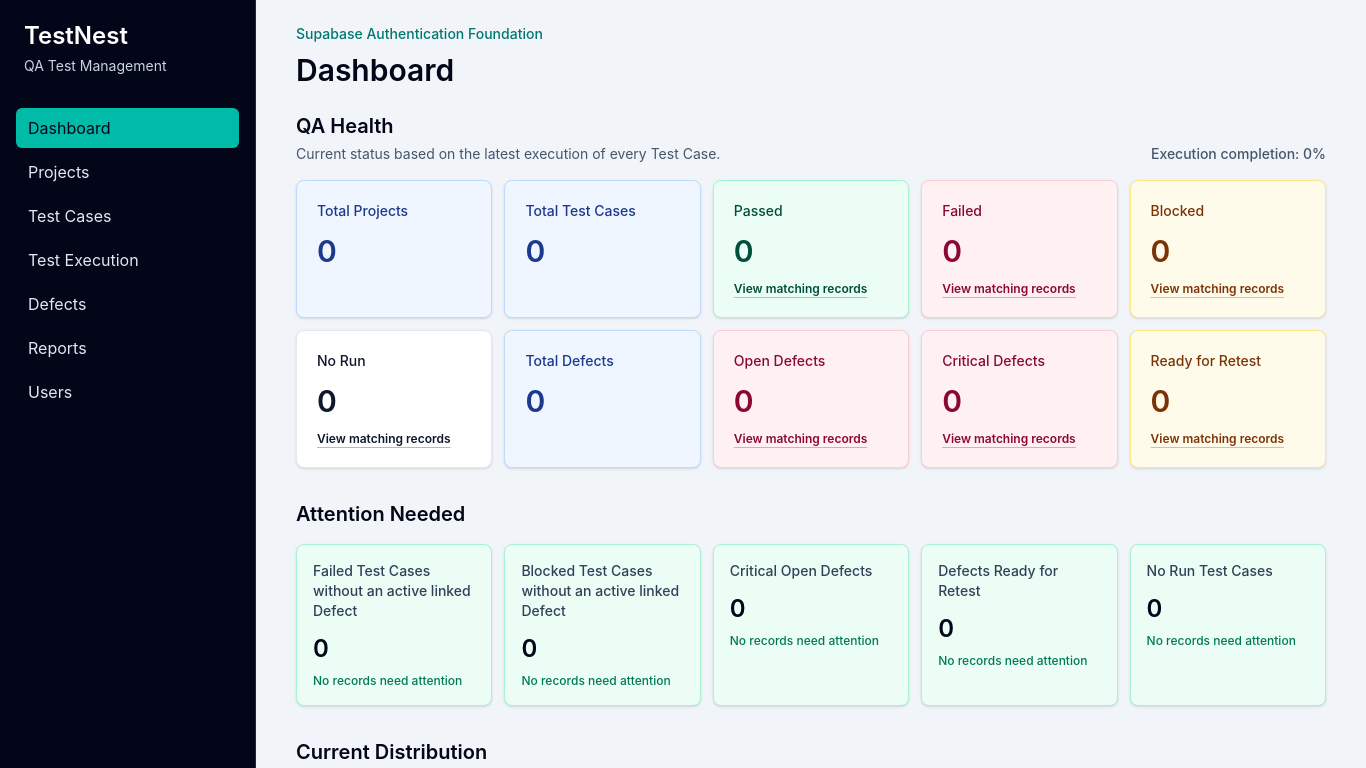
App authentication and shell › navigates between application pages after authentication
Expected: the heading "Dashboard" is shown, [296,52,454,88]
Click the button "Projects" at (128, 172), box [16,152,239,192]
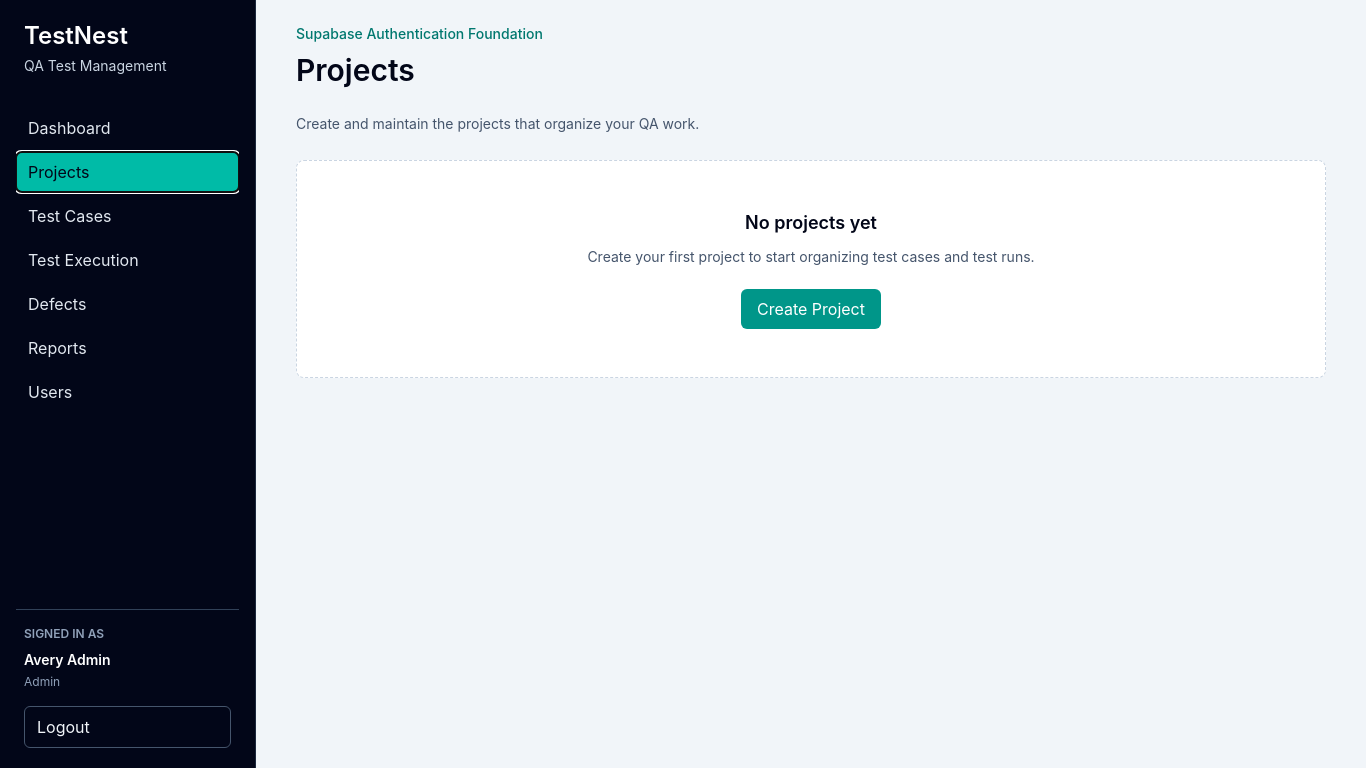
Result: the heading "Projects" is shown at [296,52,415,88]
Click the button "Test Cases" at (128, 216), box [16,196,239,236]
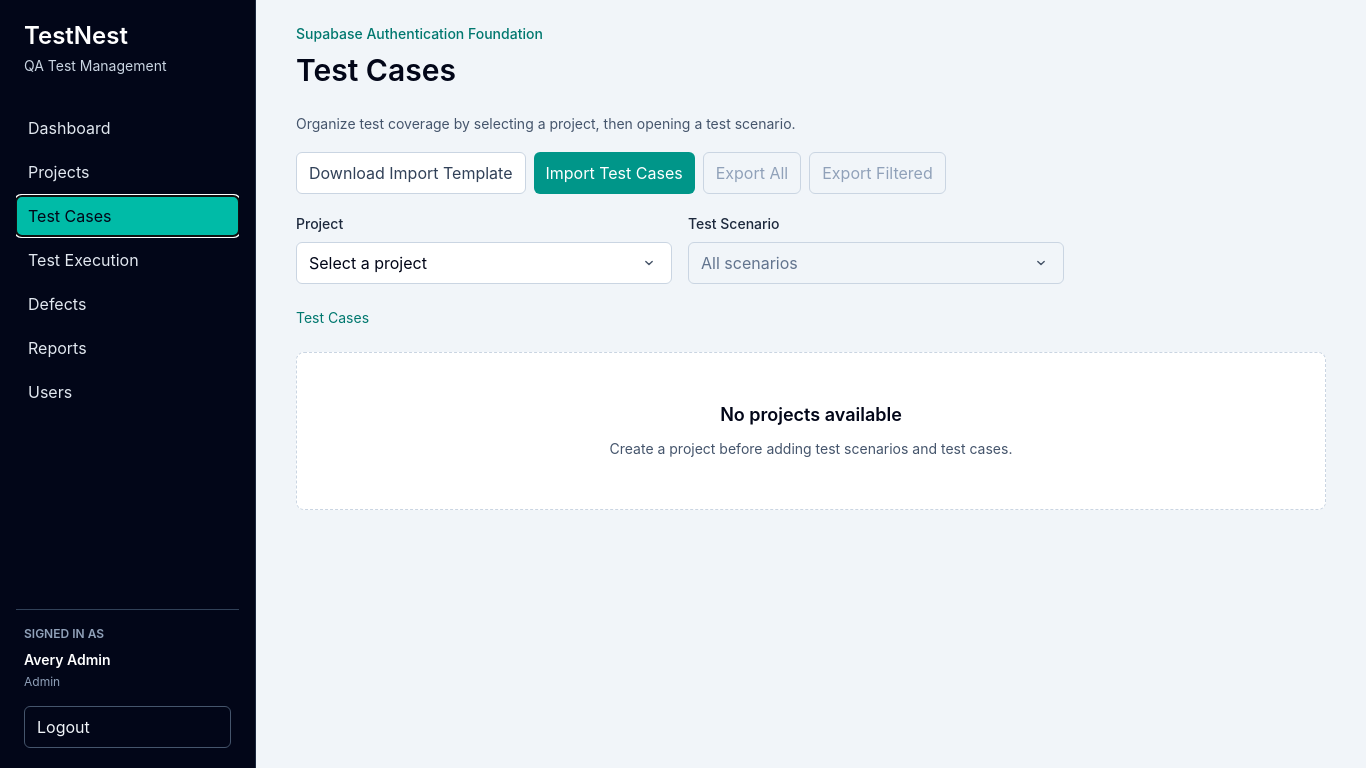
Result: the heading "Test Cases" is shown at [296,52,456,88]
Click the button "Dashboard" at (128, 128), box [16,108,239,148]
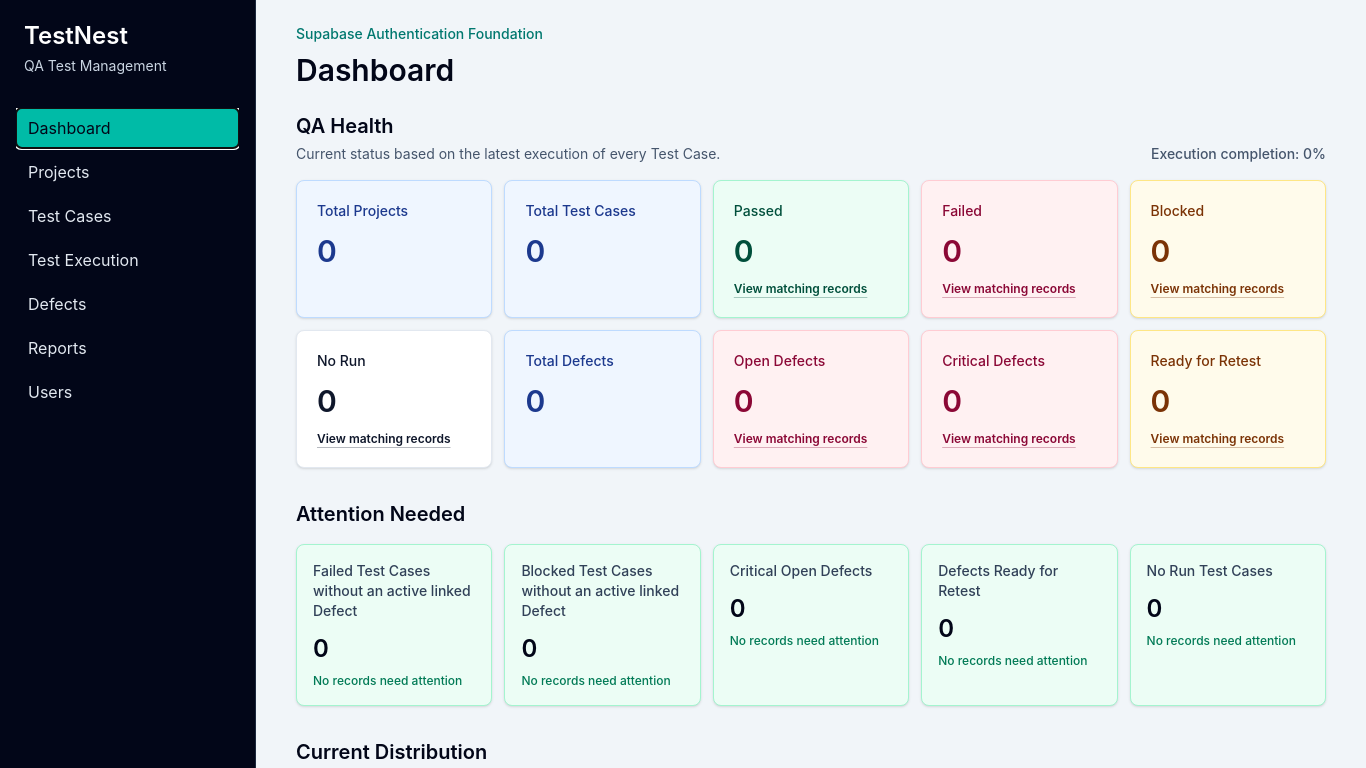
Result: the heading "Dashboard" is shown at [296,52,454,88]
